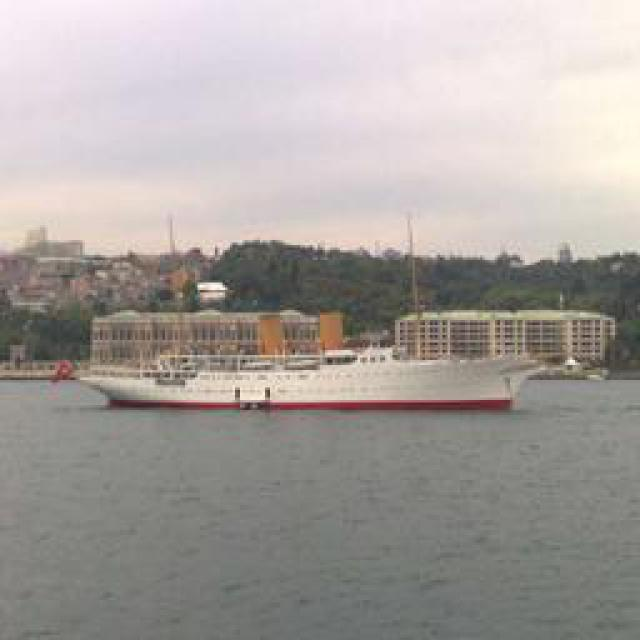Ship: (75, 356, 558, 411)
